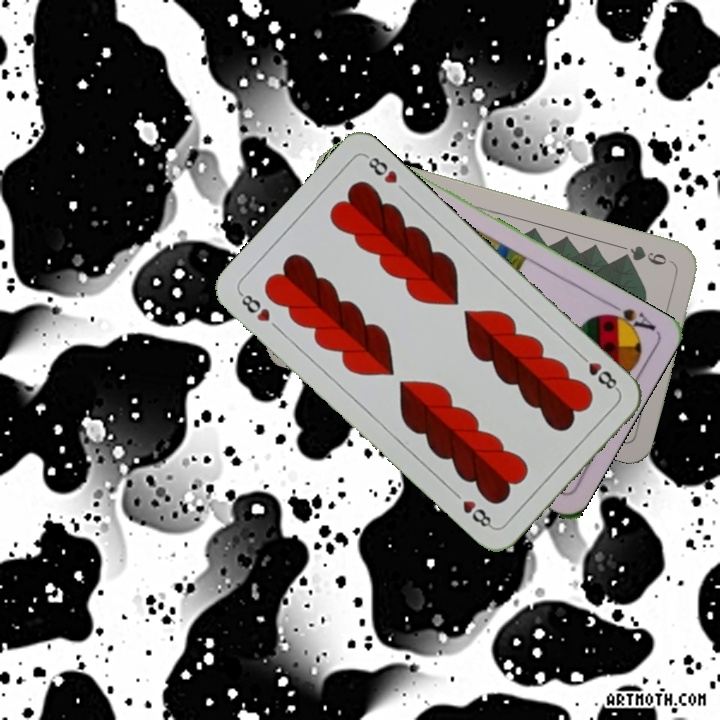G9: (616, 241, 676, 268)
H8: (574, 349, 622, 394), (235, 288, 273, 325)
SA: (599, 297, 659, 337)
